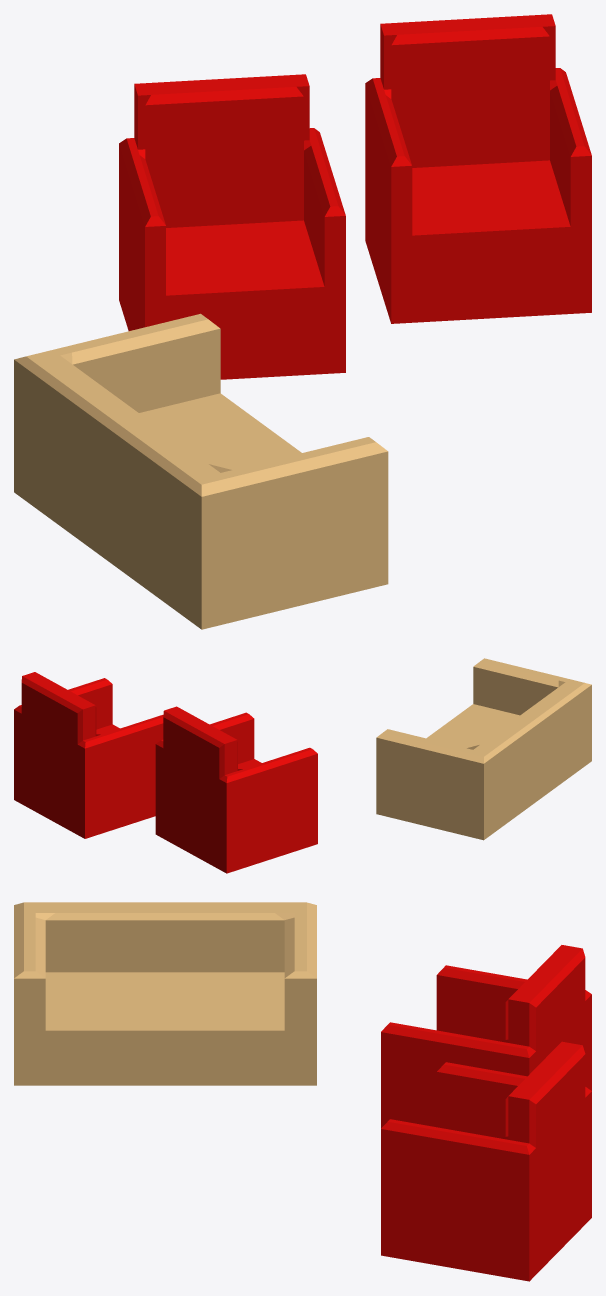
File: Furniture.fbx
3 views of the same model, one above another, from view 1: azimuth 30°, elevation 25°; view 2: azimuth 150°, elevation 25°; view 3: azimuth 270°, elevation 25° (orthographic). The views are drawn at different scales.
Parts seen in each view (by area): view 1: Furniture_Big, Furniture_Big.001, Furniture_Big.002; view 2: Furniture_Big, Furniture_Big.002, Furniture_Big.001; view 3: Furniture_Big, Furniture_Big.001, Furniture_Big.002.
Boxes of the visible parts, bbox=[...] form: Furniture_Big: bbox=[14, 313, 388, 629]; Furniture_Big.001: bbox=[365, 14, 591, 323]; Furniture_Big.002: bbox=[119, 74, 345, 379]; Furniture_Big: bbox=[376, 658, 591, 840]; Furniture_Big.002: bbox=[155, 706, 317, 873]; Furniture_Big.001: bbox=[14, 672, 163, 838]; Furniture_Big: bbox=[14, 902, 316, 1085]; Furniture_Big.001: bbox=[381, 1041, 591, 1281]; Furniture_Big.002: bbox=[381, 945, 591, 1128].
Bounding box in the file's own units: 823 × 251 × 747.
